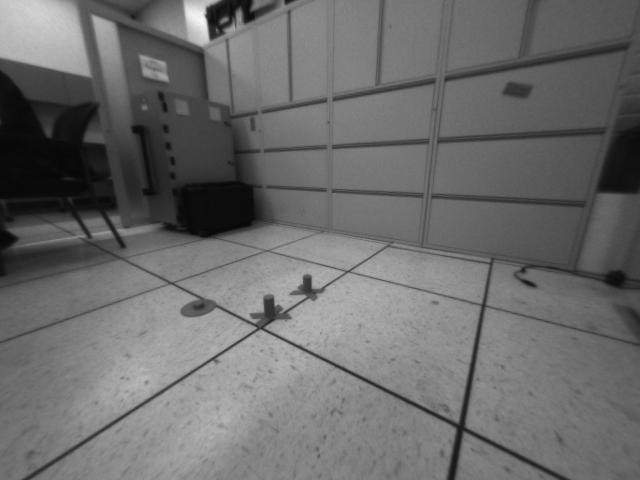X: (249, 293, 292, 327), (289, 273, 328, 301)
